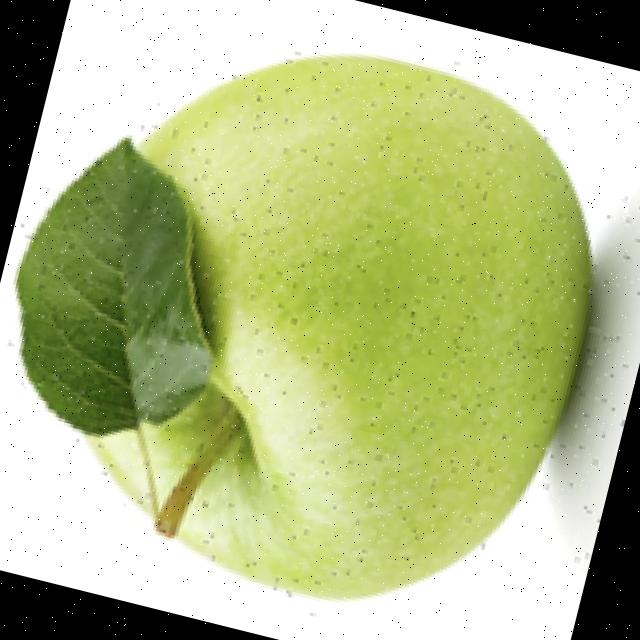apple: (3, 49, 640, 605)
